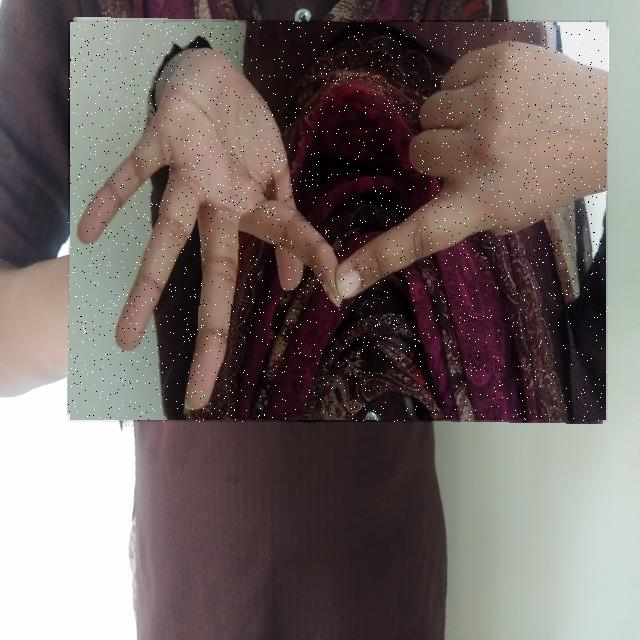E: (68, 20, 608, 422)
